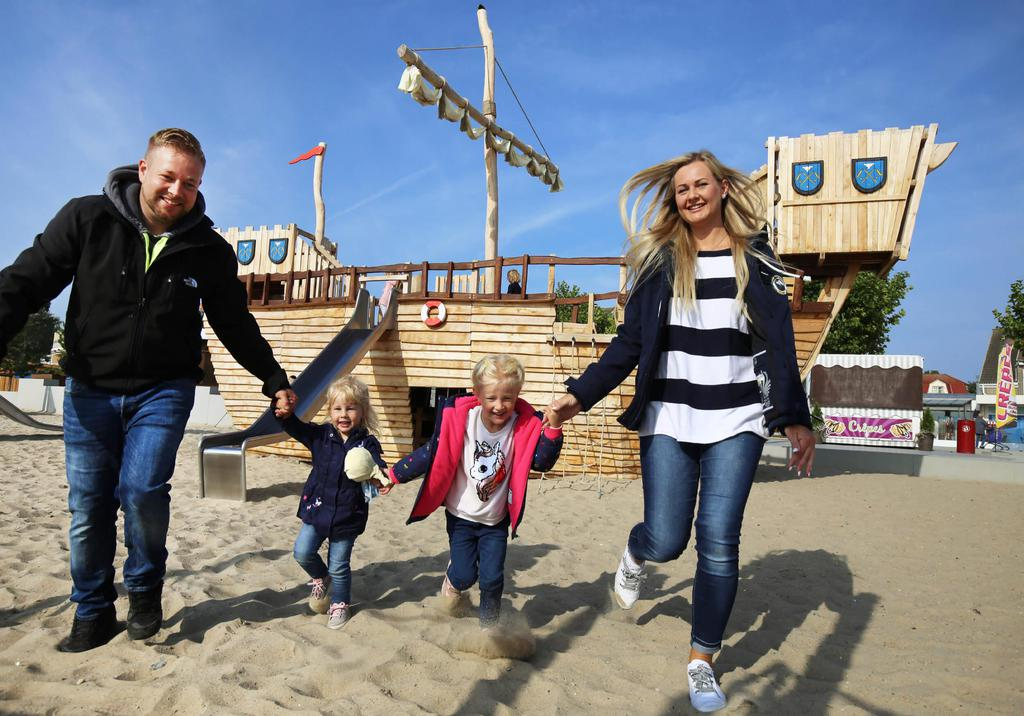child: (394, 347, 569, 627), (267, 364, 389, 627)
